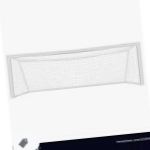goals: (5, 40, 146, 99)
